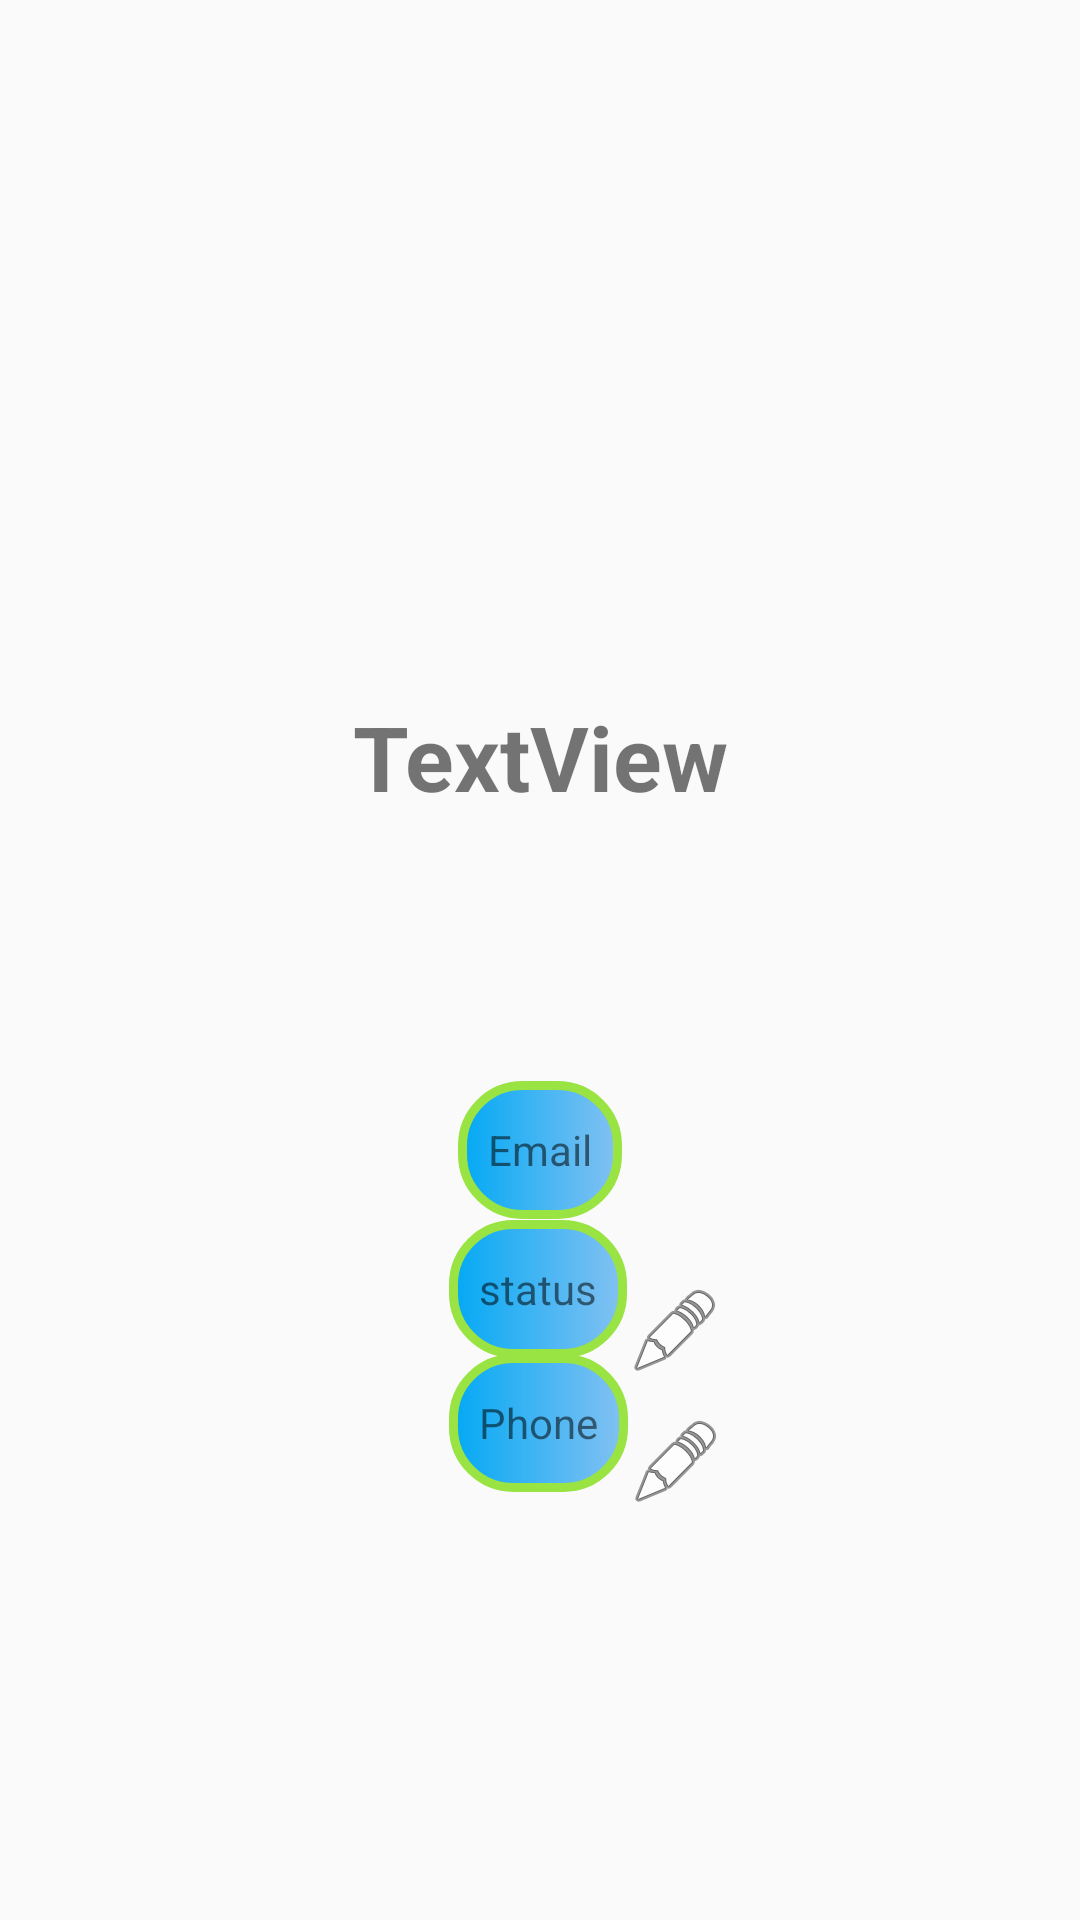

Icons on this 1080px×1920px Android screen, each with its box as (x1, y1, x2, y2):
edit: (634, 1290, 715, 1371), (635, 1421, 716, 1502)
